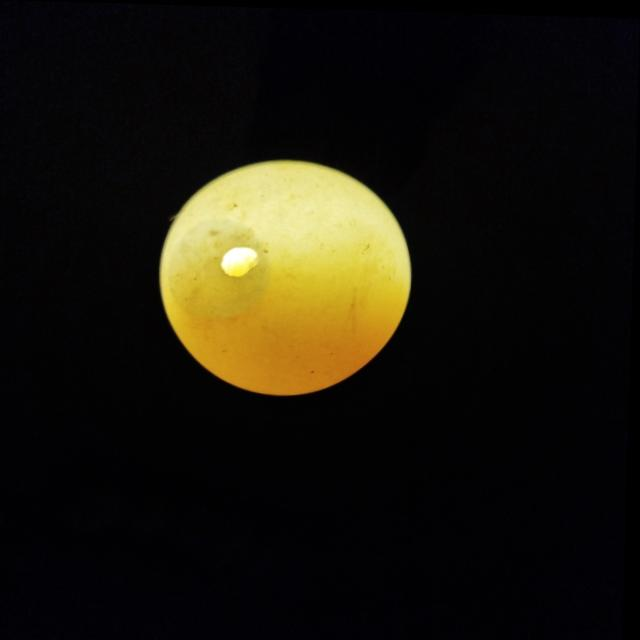Camara de Ar: (169, 218, 272, 316)
